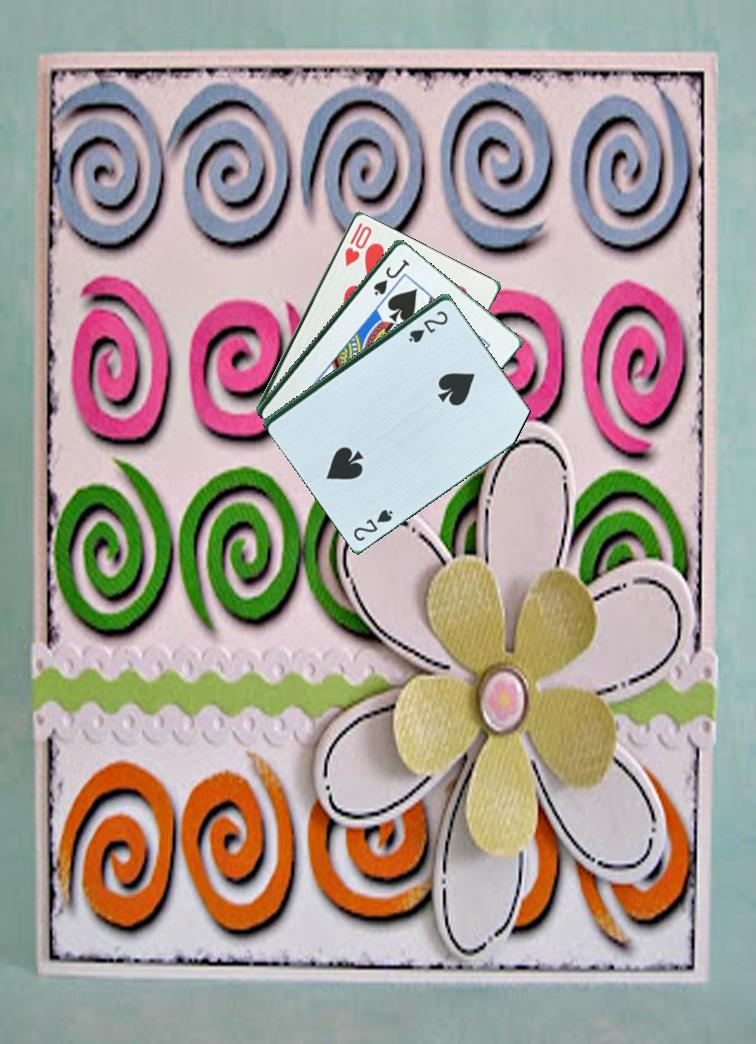2s: (350, 499, 396, 544), (405, 307, 457, 344)
js: (370, 255, 411, 299)
th: (341, 218, 374, 269)
